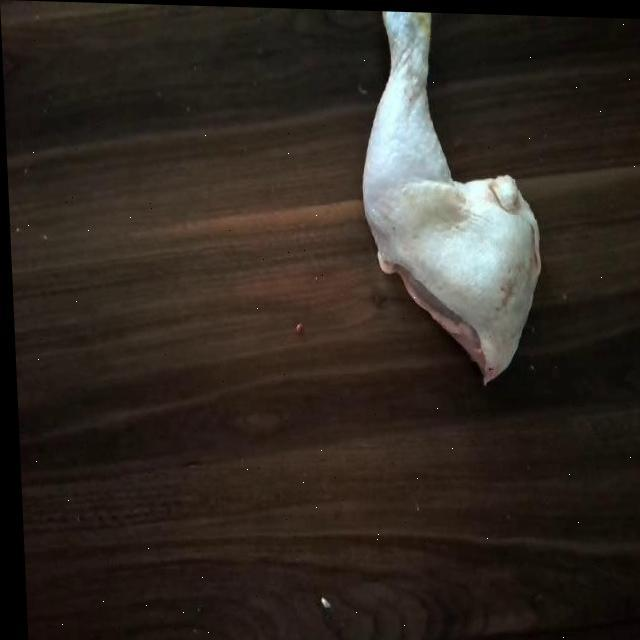breast: (330, 8, 550, 374)
